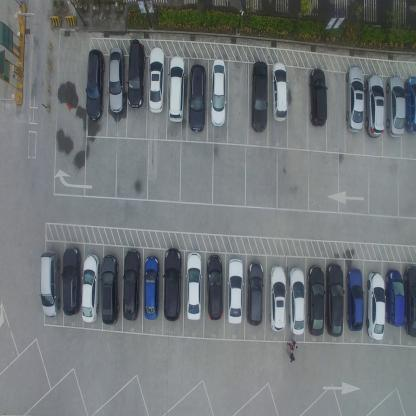car: (85, 48, 105, 122), (187, 63, 208, 133), (100, 254, 121, 324), (325, 262, 344, 338), (39, 251, 60, 319), (81, 251, 101, 322), (61, 245, 81, 316), (366, 270, 386, 341), (250, 58, 268, 134), (122, 249, 141, 321), (127, 38, 146, 110), (167, 56, 187, 123), (163, 248, 181, 322), (345, 65, 364, 134), (364, 74, 384, 139), (269, 263, 287, 334), (385, 76, 405, 139), (384, 268, 405, 327), (210, 57, 227, 127), (185, 251, 202, 321), (307, 68, 327, 127), (288, 267, 305, 336), (148, 46, 165, 115), (108, 46, 125, 115), (142, 254, 160, 318), (308, 265, 324, 337), (346, 268, 364, 332), (226, 259, 243, 326), (246, 262, 263, 328), (206, 254, 222, 323), (271, 61, 287, 123), (404, 266, 416, 338), (404, 76, 416, 135)
